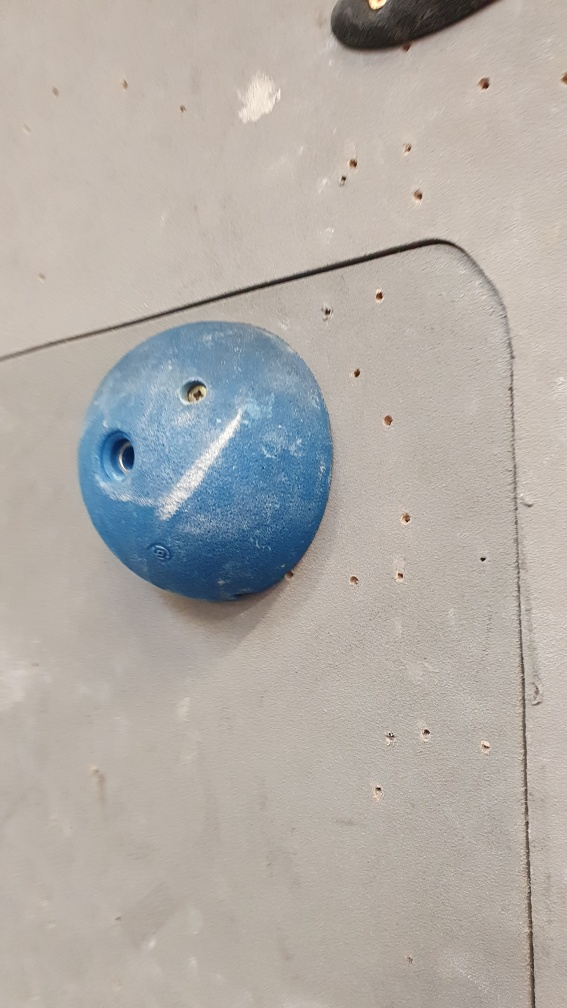Sloper: (71, 318, 340, 612)
